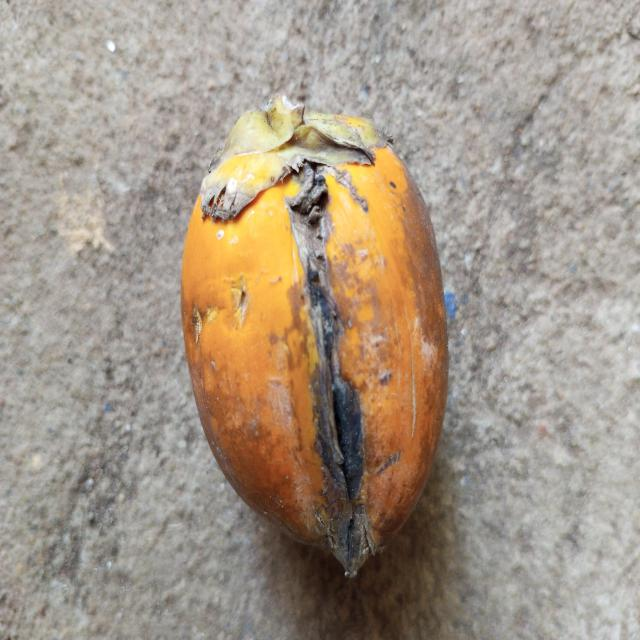damaged: (179, 97, 451, 582)
